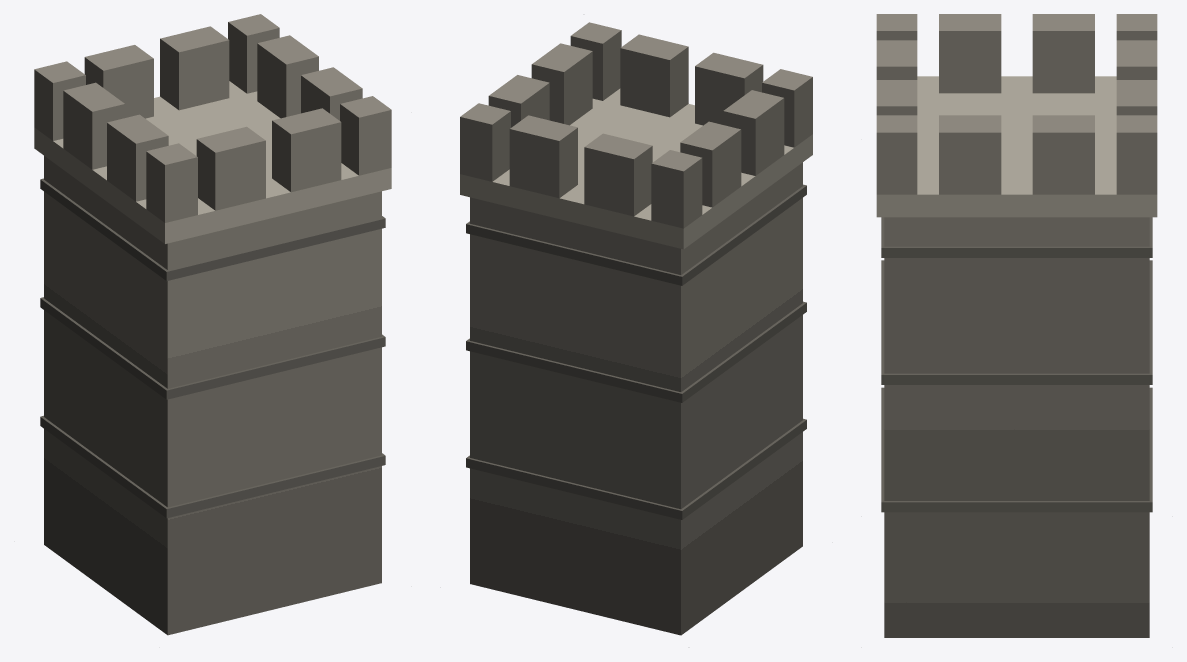
The model's file is perimeter_wall_stone.glb.
3 views of the same model, side by side, from view 1: azimuth 30°, elevation 25°; view 2: azimuth 150°, elevation 25°; view 3: azimuth 270°, elevation 25° (orthographic). The views are drawn at different scales.
Size of the model in its own units: 2 by 3.6 by 2.
Materials: 1 (1 with a texture image).
